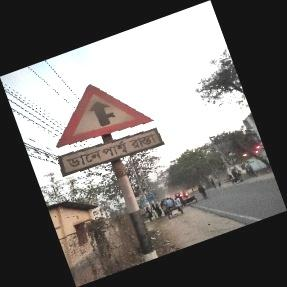Side-road-right: (56, 84, 161, 173)
